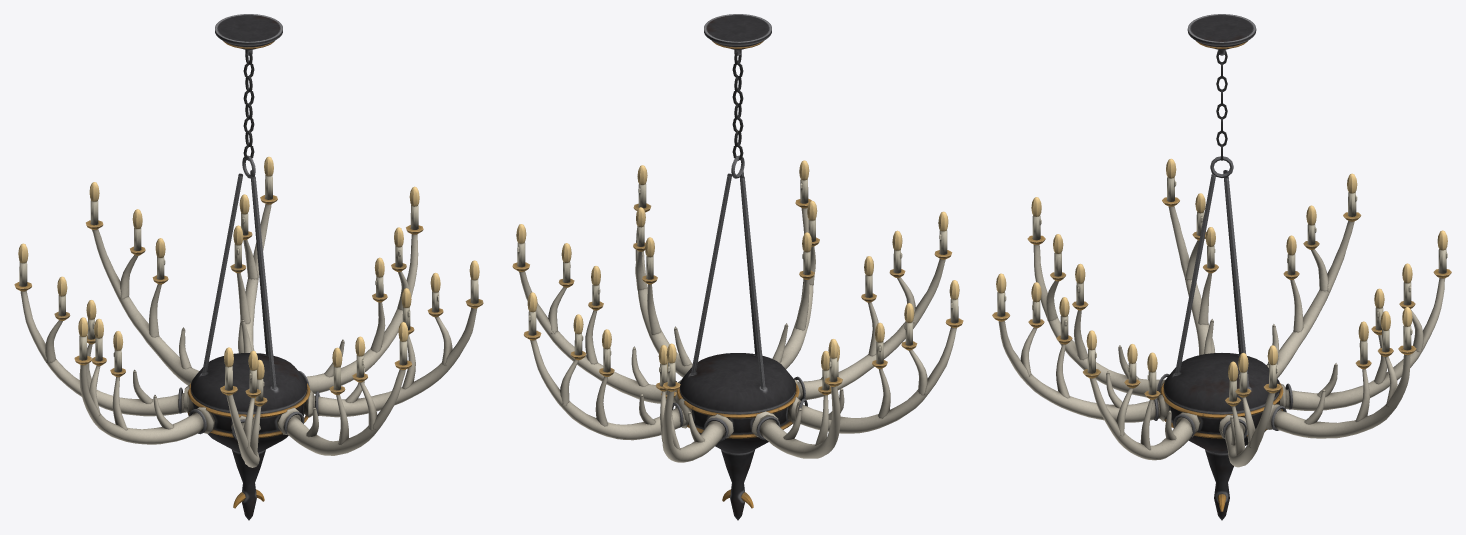
File: ChandelierAntler.fbx
3 views of the same model, side by side, from view 1: azimuth 30°, elevation 25°; view 2: azimuth 150°, elevation 25°; view 3: azimuth 270°, elevation 25° (orthographic).
Visible parts, largest first — view 1: ChandelierAntler_Main, ChandelierAntler_Glow; view 2: ChandelierAntler_Main, ChandelierAntler_Glow; view 3: ChandelierAntler_Main, ChandelierAntler_Glow.
Part boxes in pixels (box(x1,y1,x2,y2)): ChandelierAntler_Main: box(14, 14, 483, 520); ChandelierAntler_Glow: box(18, 156, 479, 379); ChandelierAntler_Main: box(512, 14, 963, 520); ChandelierAntler_Glow: box(516, 160, 959, 372); ChandelierAntler_Main: box(992, 14, 1451, 520); ChandelierAntler_Glow: box(996, 158, 1447, 381).
Size of the model in its own units: 457 by 540 by 457.
